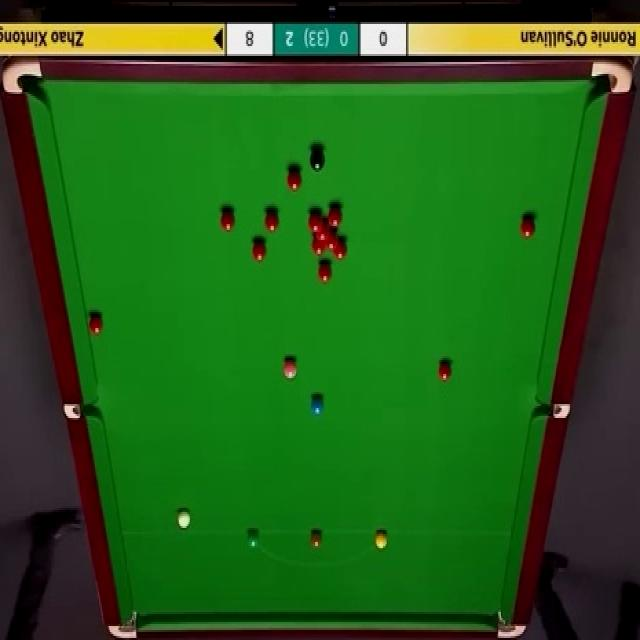black-ball: (308, 147, 325, 174)
blue-ball: (310, 394, 325, 418)
brown-ball: (310, 530, 323, 550)
green-ball: (247, 530, 260, 551)
pink-ball: (281, 355, 301, 383)
red-ball: (86, 309, 104, 337), (285, 167, 303, 194), (436, 359, 454, 382), (521, 216, 537, 240), (264, 209, 280, 233), (251, 240, 267, 264), (220, 208, 236, 232), (336, 238, 351, 262), (308, 210, 324, 232), (324, 232, 340, 252), (317, 262, 332, 283), (328, 206, 342, 228), (311, 237, 326, 256), (316, 224, 330, 243)
white-ball: (174, 509, 191, 532)
yellow-ball: (375, 530, 387, 550)
